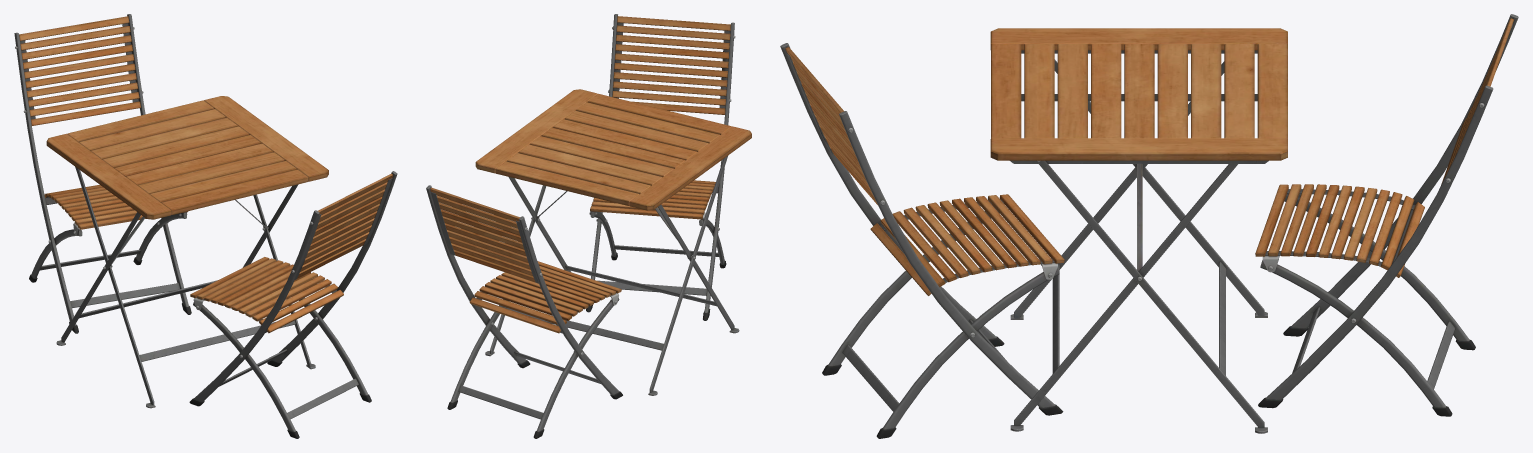
Rendered from outdoor_table_chair_set_01.glb.
3 renders of one model, left to right at view 1: azimuth 30°, elevation 25°; view 2: azimuth 150°, elevation 25°; view 3: azimuth 270°, elevation 25°, orthographic. The views are drawn at different scales.
Visible parts, largest first — view 1: outdoor_table_chair_set_01_chair_01, outdoor_table_chair_set_01_table; view 2: outdoor_table_chair_set_01_chair_01, outdoor_table_chair_set_01_table; view 3: outdoor_table_chair_set_01_table, outdoor_table_chair_set_01_chair_01.
Boxes of the visible parts, x1,y1,x2,y2 form: outdoor_table_chair_set_01_chair_01: (14,14,397,438); outdoor_table_chair_set_01_table: (46,96,328,408); outdoor_table_chair_set_01_chair_01: (426,14,735,438); outdoor_table_chair_set_01_table: (475,89,751,395); outdoor_table_chair_set_01_table: (990,28,1287,433); outdoor_table_chair_set_01_chair_01: (780,14,1518,438).
Size of the model in its own units: 0.7417 by 0.8586 by 1.72.
2 materials, 2 textured.
